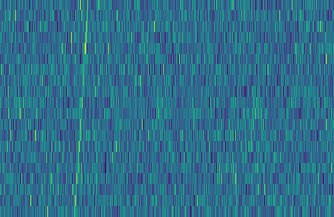signal: (67, 0, 90, 217)
